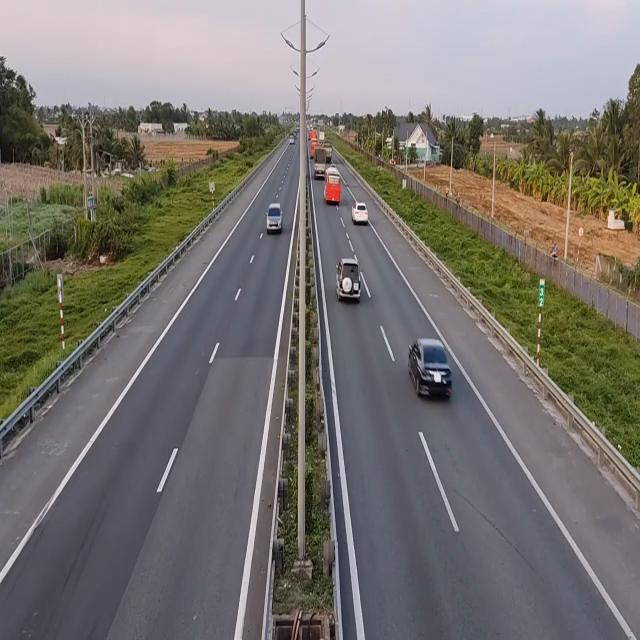bus: (324, 169, 342, 205)
car: (408, 338, 453, 402), (336, 256, 363, 304), (266, 202, 284, 235), (352, 201, 370, 226)
